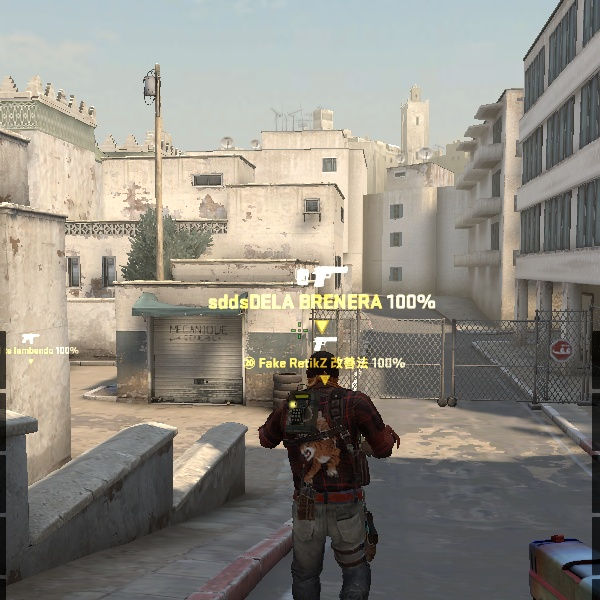t_body: (239, 345, 415, 598)
t_head: (294, 339, 355, 405)
